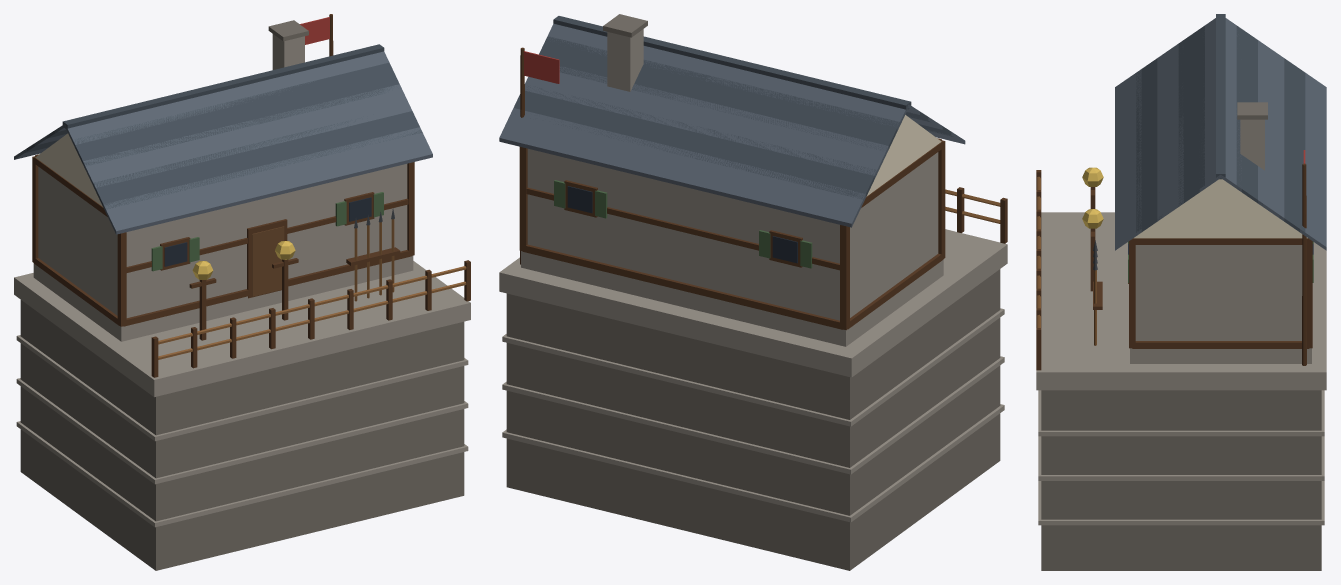
File: barracks.glb
3 views of the same model, side by side, from view 1: azimuth 30°, elevation 25°; view 2: azimuth 150°, elevation 25°; view 3: azimuth 270°, elevation 25° (orthographic). The views are drawn at different scales.
Parts seen in each view (by area): view 1: barracks; view 2: barracks; view 3: barracks.
Boxes of the visible parts, x1,y1,x2,y2 form: barracks: (14,14,470,570); barracks: (499,14,1007,570); barracks: (1036,14,1326,570).
Bounding box in the file's own units: 7.7 × 9.53 × 5.9.
